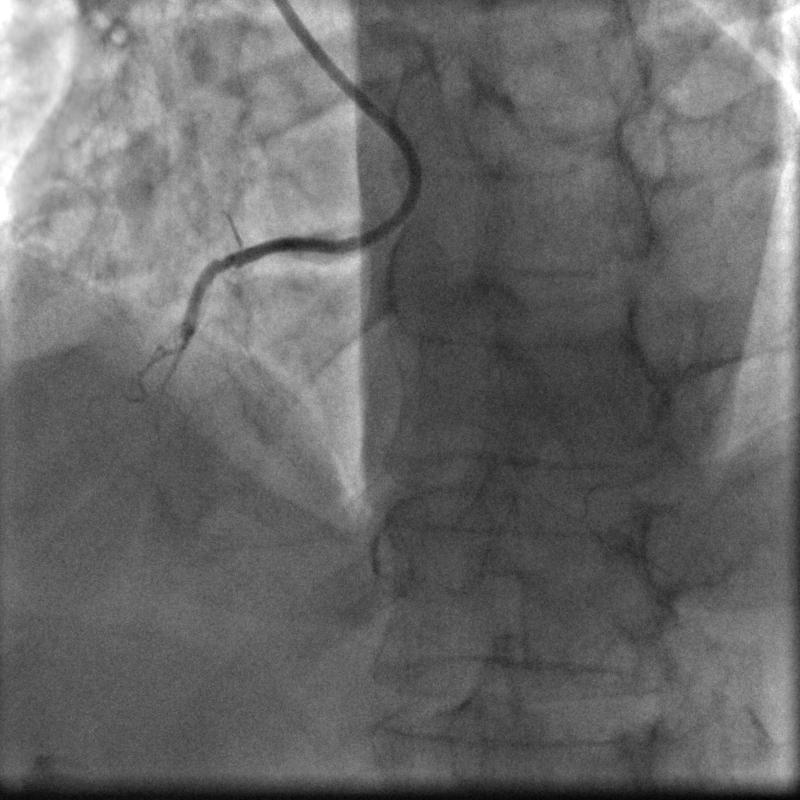Stenosis: (166, 315, 203, 379)
